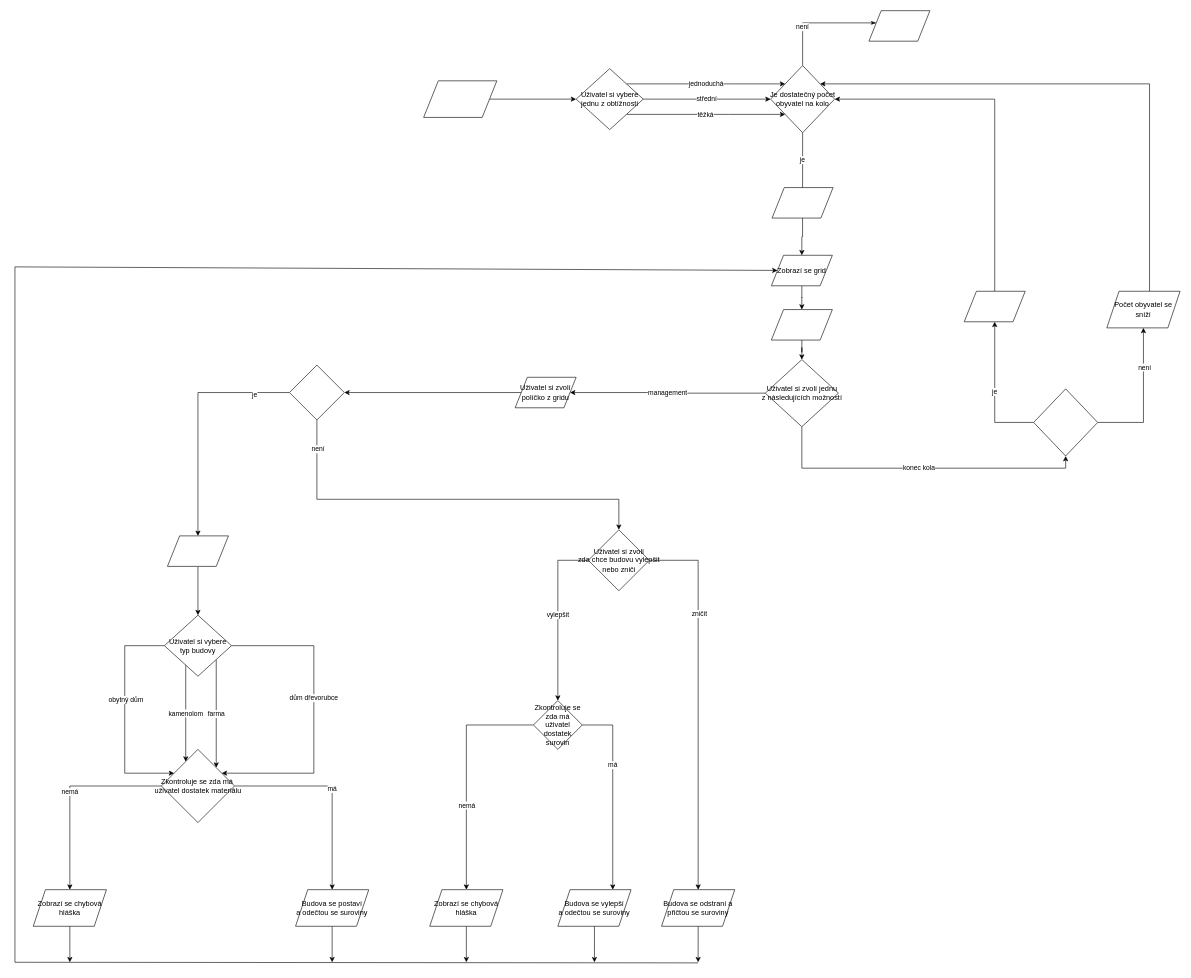
The diagram is 1191 pixels wide and 978 high, and some of its shapes have lost their labels. The shapes that lost their labels are listed below. From the top down, each one's centre as x and y in pixels, then its label:
point 899,25: Hra končí
point 460,98: Vypíší se informace o obtížnostech a popis a cíl hry
point 802,202: Přičtou se suroviny na další kolo
point 801,324: Zobrazí se dostupné suroviny a volby
point 994,306: Počet jídla se sníží a obyvatel se navýší
point 316,392: Zjistí se zda je políčko volné
point 1065,422: Zkontroluje se zda je dostatečný počet jídla pro nakrmení obyvatel
point 197,550: Vypíší se ceny za jednotlivé budovy
